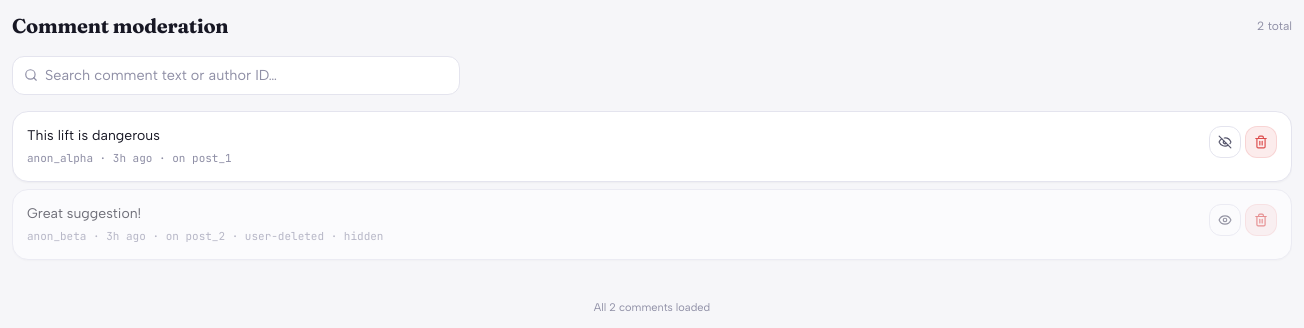
Scenario: CommentMod — search › filters by author ID
Expected: the text "This lift is dangerous" is shown, [27,126,160,144]
Type "anon_beta" into the field with placeholder "Search comment text or author ID…".
click(236, 75); type("anon_beta")  # box [12,56,460,94]
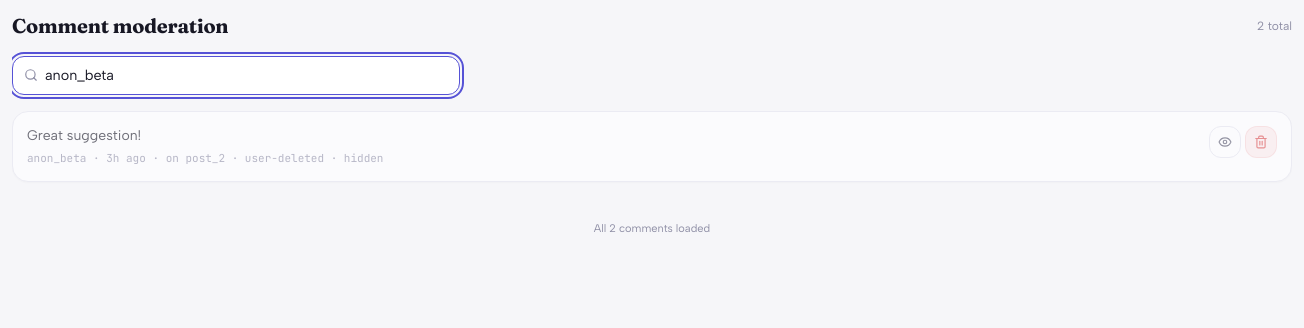
Expected: the text "Great suggestion!" is shown, [27,126,141,144]
Expected: the text "This lift is dangerous" is gone
